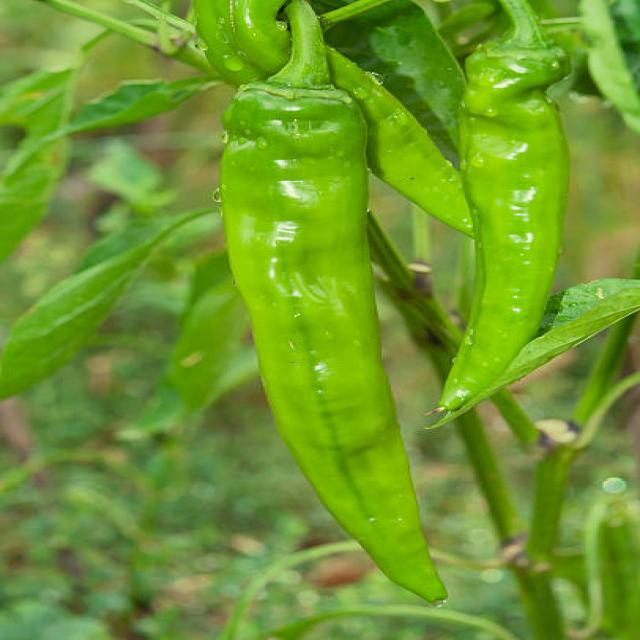Unripe: (219, 58, 448, 609), (430, 0, 574, 416)
